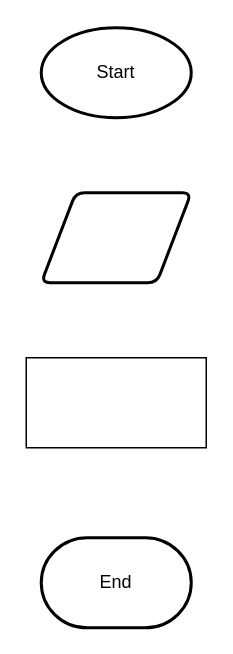
This 233x654 diagram has some shape labels left out. Each missing label, with the centre of its shape:
"Get speed" goes at pixel 115 237.
"super.setSpeed(speed * this.Multiplier)" goes at pixel 115 402.
